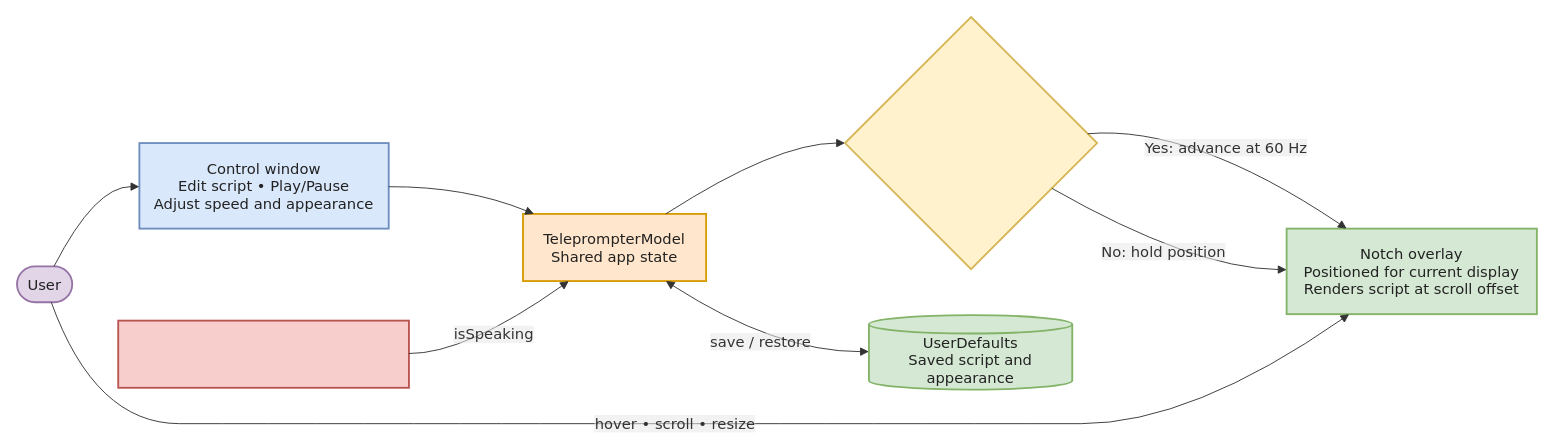
Image size: 1553x448. Some labels were removed from this diagram. Each missing label, with the centre of its shape:
Microphone + VoiceActivityDetector Local loudness → speaking / silent: pixel 263 353
Playing + speaking and not hover-paused?: pixel 971 143
